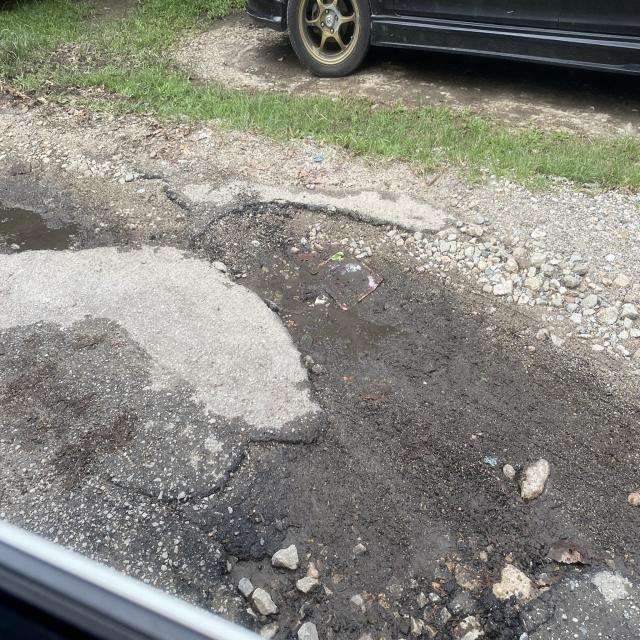pothole: (193, 417, 568, 640), (0, 109, 83, 274)
